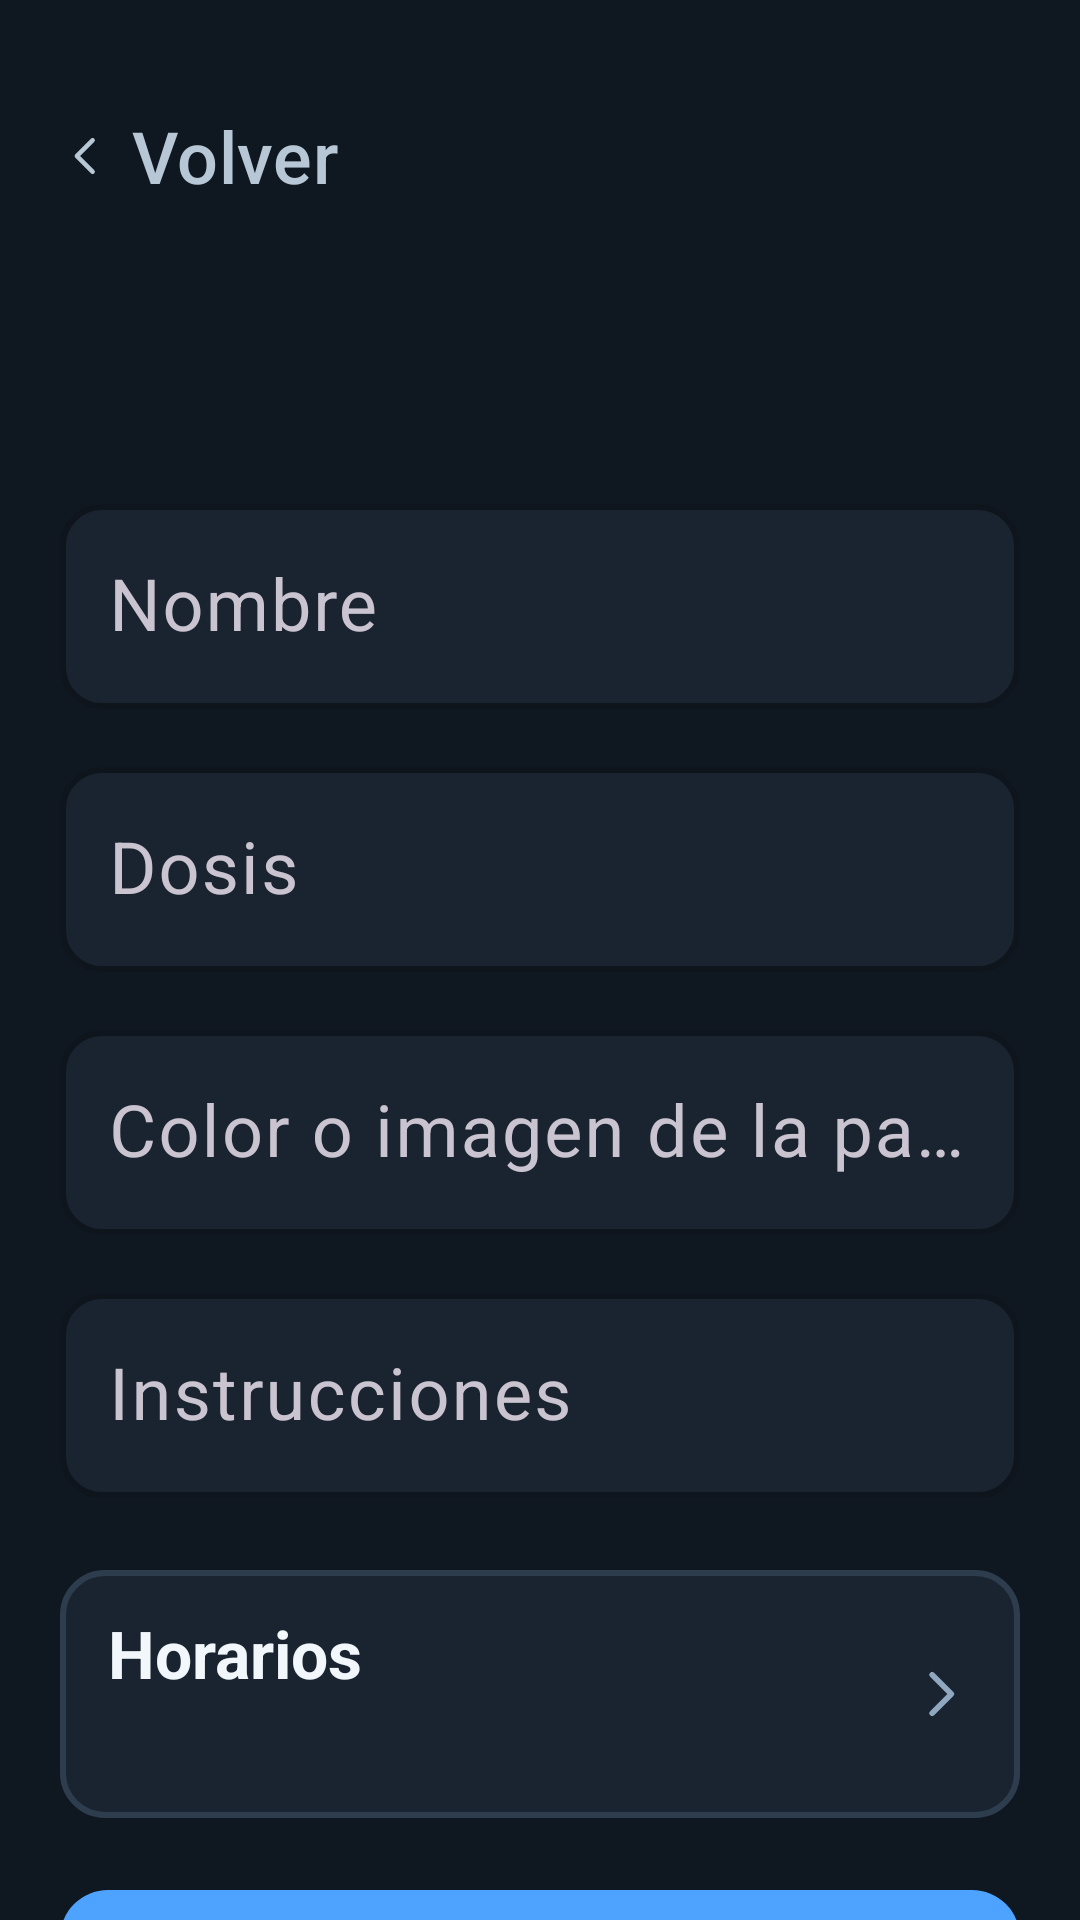

Point at icon controls on the screen. Image size 1080x1920, points as (x=x, y=y).
chevron: (x=942, y=1694)
